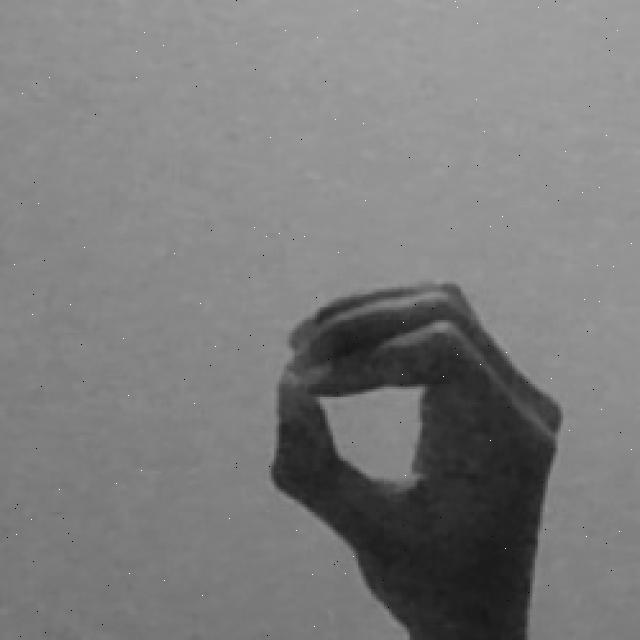O: (266, 274, 566, 640)
